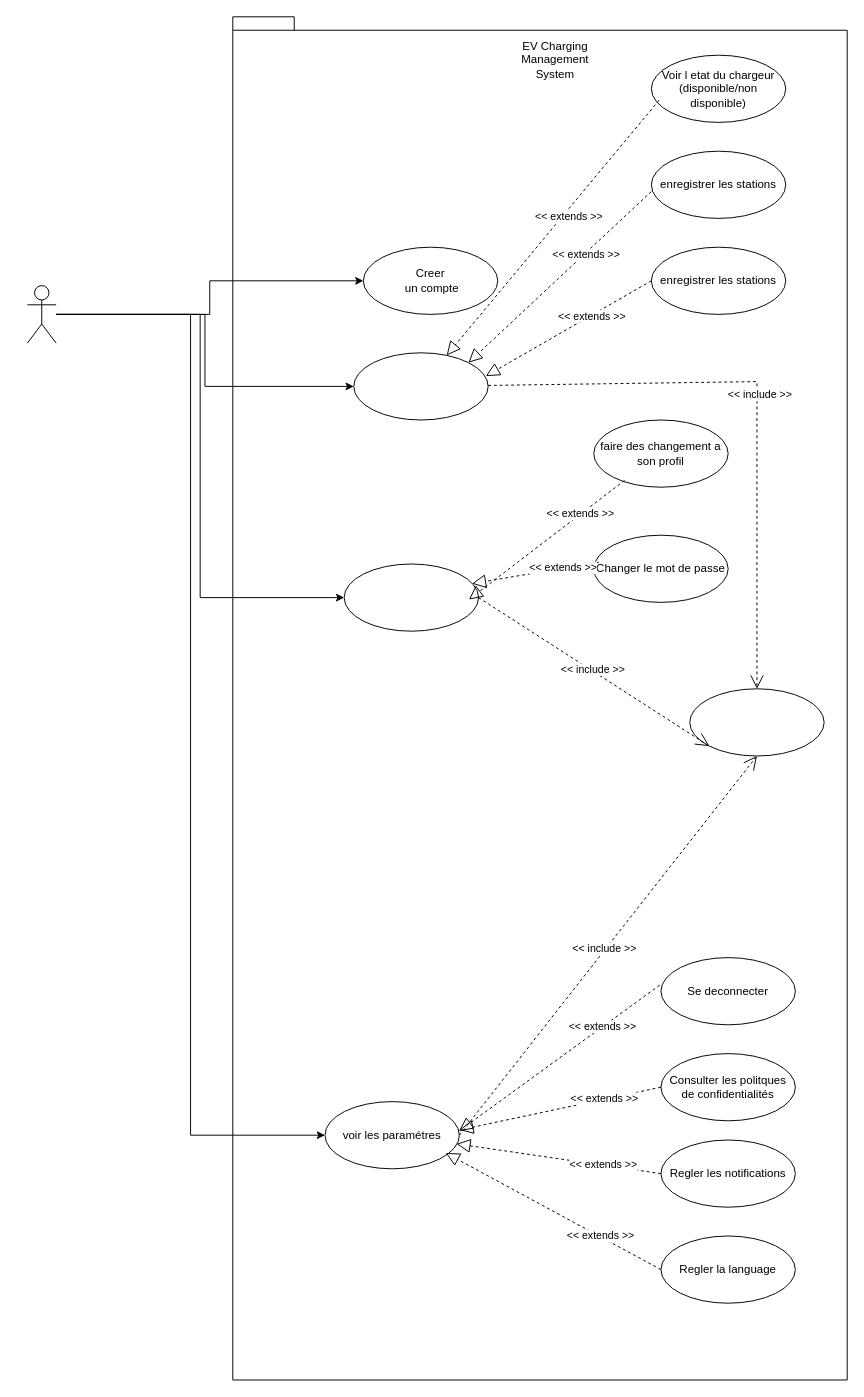
This 864x1397 diagram has some shape labels left out. Here are the shapes that lost their labels. From the top down, the centre of each, then its label:
(x=41, y=314): Utilisateur
(x=420, y=386): Consulter le map pour voir les stations proches
(x=411, y=597): consutler son profil
(x=756, y=722): S authentifier
